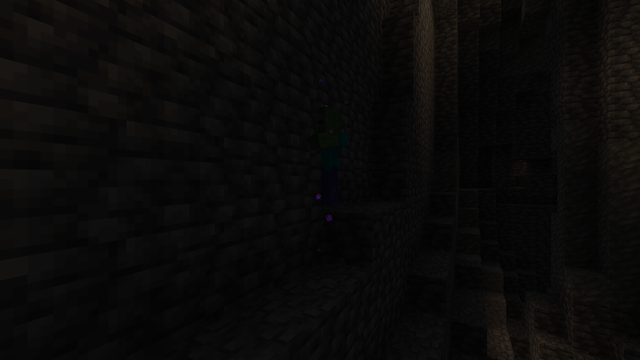zombies: (315, 107, 343, 212)
